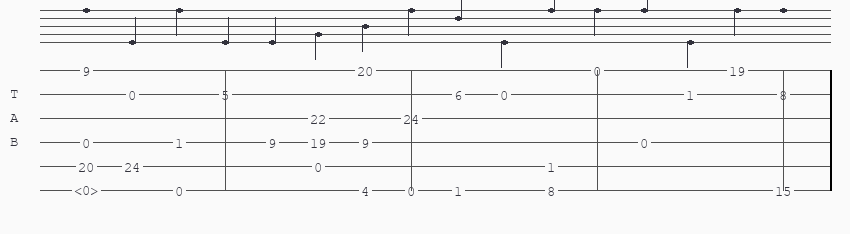0: (82, 136, 94, 149), (128, 88, 140, 101), (175, 184, 187, 197), (314, 160, 326, 173), (407, 184, 419, 197), (500, 88, 512, 101), (593, 64, 605, 77), (640, 136, 652, 149)
1: (175, 136, 187, 149), (454, 184, 466, 197), (547, 160, 559, 173), (686, 88, 698, 101)
15: (775, 184, 795, 197)
19: (310, 136, 330, 149), (729, 64, 749, 77)
20: (78, 160, 98, 173), (357, 64, 377, 77)
22: (310, 112, 330, 125)
24: (124, 160, 144, 173), (403, 112, 423, 125)
4: (361, 184, 373, 197)
5: (221, 88, 233, 101)
6: (454, 88, 466, 101)
8: (547, 184, 559, 197), (779, 88, 791, 101)
9: (82, 64, 94, 77), (268, 136, 280, 149), (361, 136, 373, 149)
harmonic: (74, 183, 102, 197)
